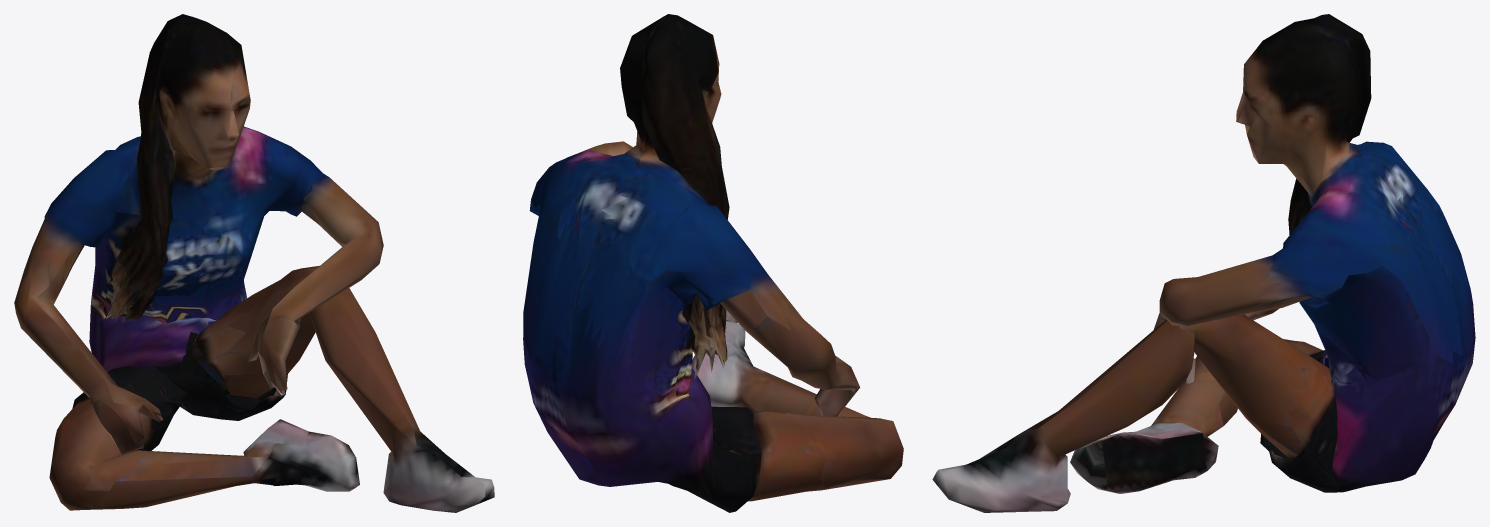
Rendered from terkapar_idle_lod2.glb.
The picture shows the model from 3 angles, left to right: view 1: azimuth 30°, elevation 25°; view 2: azimuth 150°, elevation 25°; view 3: azimuth 270°, elevation 25°; orthographic projection. The views are drawn at different scales.
Visible parts, largest first — view 1: tripo_node_a4e40cc4; view 2: tripo_node_a4e40cc4; view 3: tripo_node_a4e40cc4.
Boxes of the visible parts, bbox=[...] form: tripo_node_a4e40cc4: bbox=[14, 14, 494, 512]; tripo_node_a4e40cc4: bbox=[523, 14, 903, 512]; tripo_node_a4e40cc4: bbox=[932, 14, 1475, 512].
Size of the model in its own units: 39.47 by 52.69 by 55.46.
1 material, 1 textured.
